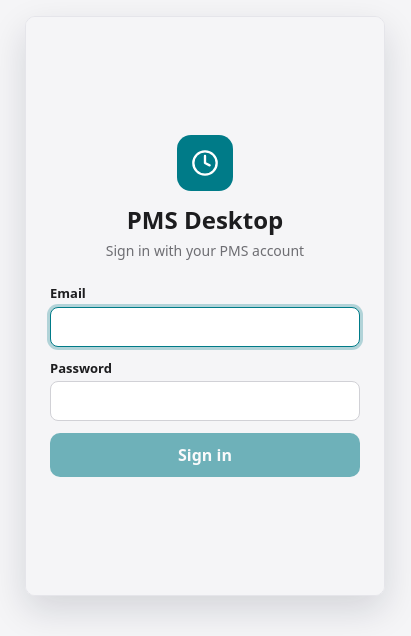
Test: sign in › shows an offline error
Type "offline@acme.com" into the field labelled "Email".
click(205, 327); type("offline@acme.com")  # box [50,307,360,347]
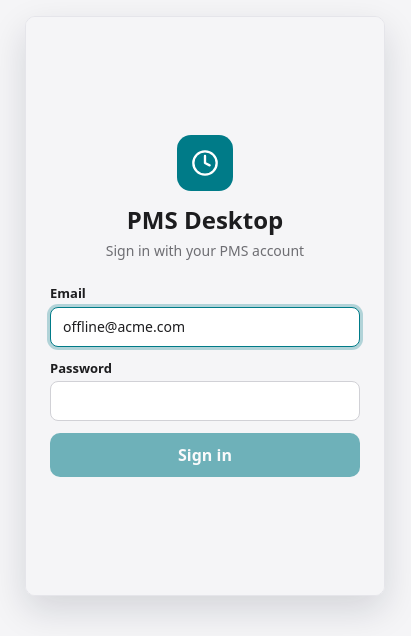
Type "x" into the password field labelled "Password".
click(205, 401); type("x")  # box [50,381,360,421]
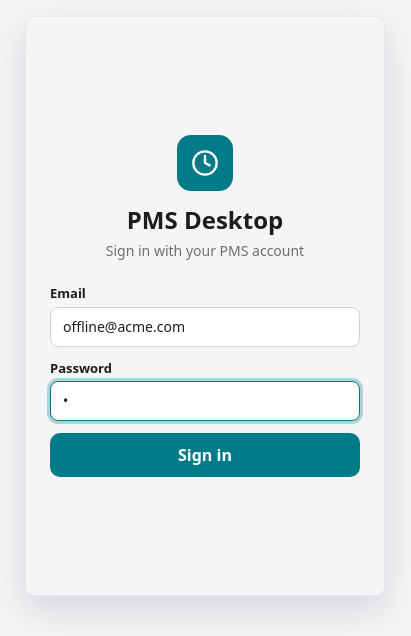
Click the button "Sign in".
click(205, 455)  # box [50,433,360,477]
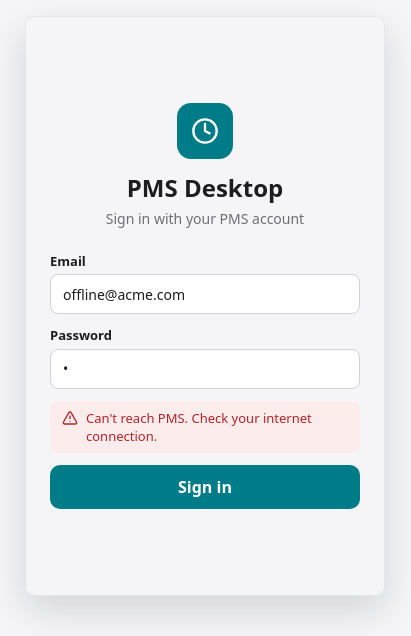
Expected: the message shows "Can't reach PMS", [86,409,312,445]
